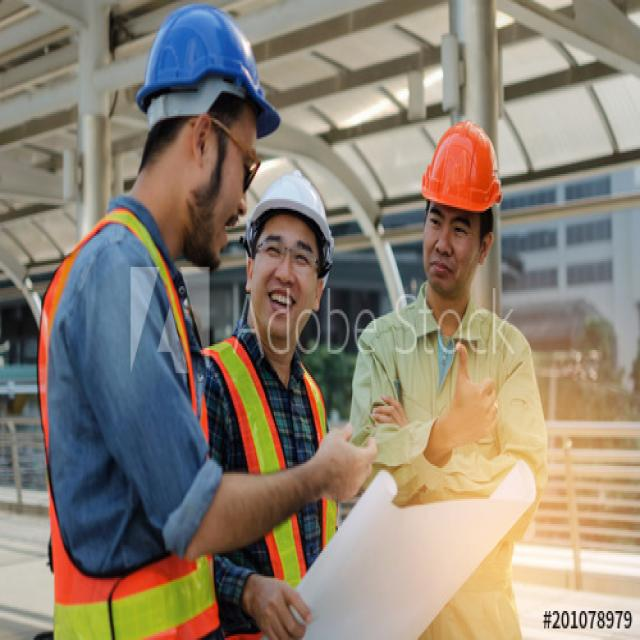Reflective-Jacket: (30, 212, 221, 640), (202, 321, 344, 603)
Safety-Helmet: (130, 0, 282, 151), (240, 160, 340, 263), (418, 110, 510, 219)
